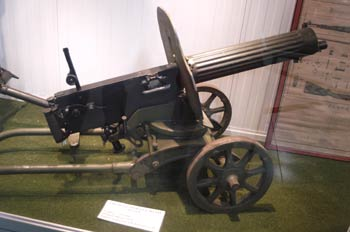rifle: (18, 14, 317, 189)
